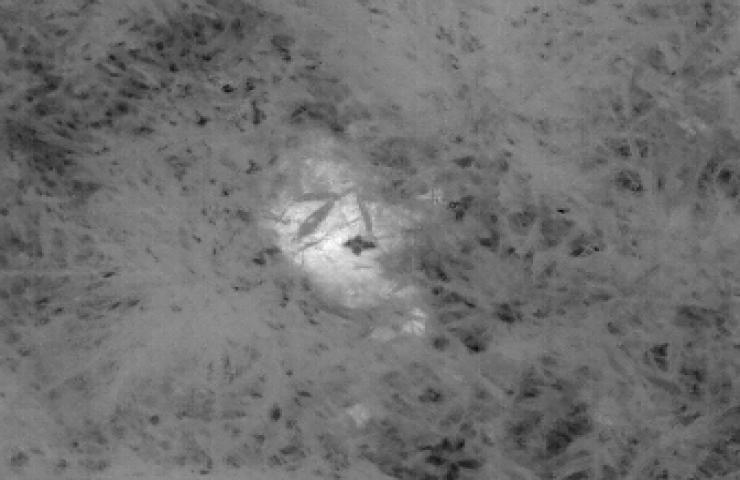landmines: (270, 168, 418, 308)
